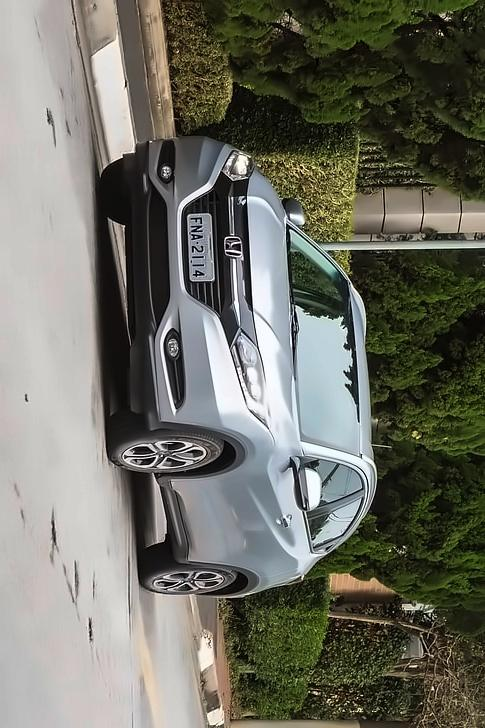Car hood: (244, 160, 304, 442)
Fender - -F-L-: (160, 426, 333, 483)
Front bumper: (118, 129, 219, 445)
Headlight - -L-: (218, 324, 284, 434)
Headlight - -R-: (209, 141, 260, 187)
Passenger-s door - -F-L-: (161, 452, 377, 510)
Passenger-s door - -R-L-: (176, 495, 378, 569)
Side bumper - -L-: (151, 466, 201, 566)
Side mirror - -L-: (291, 458, 325, 513)
Side mirror - -R-: (276, 186, 311, 231)
